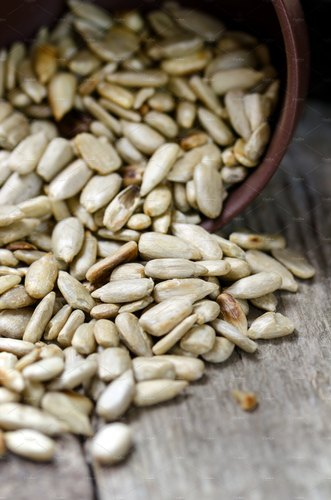seed: (1, 153, 316, 477)
